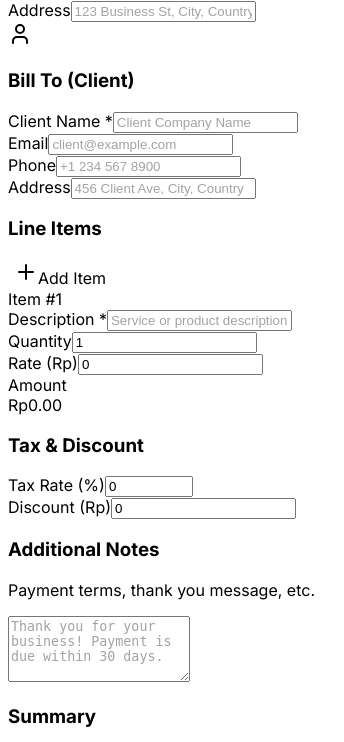
InvoiceGeneratorPage › calculates subtotal correctly
(page scrolled)
// Set quantity to 2 and rate to 100
Replace the text in the number field labelled "Quantity" with "2" at (164, 342), box 72,332 -> 257,353
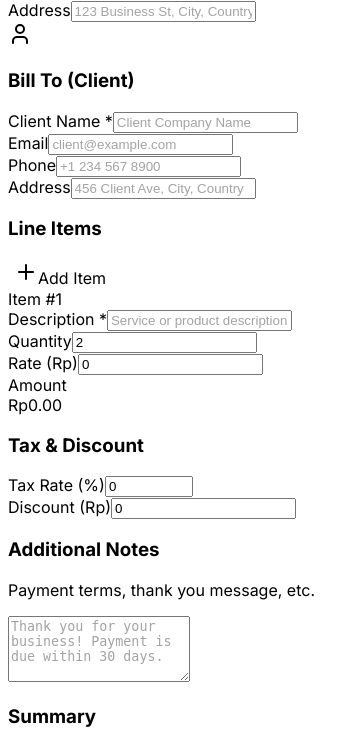
Replace the text in the number field labelled "Rate (Rp)" with "100" at (170, 364), box 78,354 -> 263,375
(page scrolled)
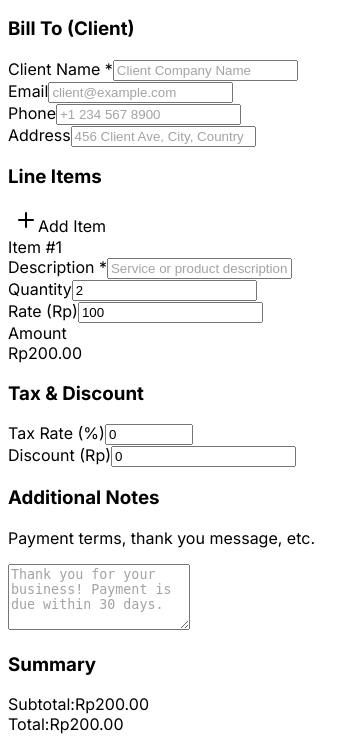
expect the text "Subtotal:" is shown: met, box 8,694 -> 75,714
expect the text "Rp200.00" is shown: met, box 8,343 -> 82,363
